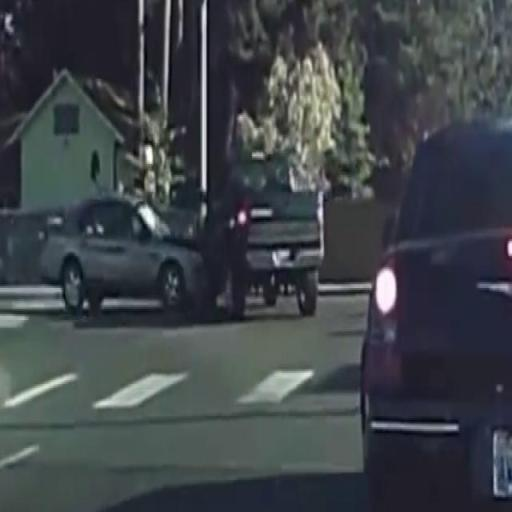小汽车撞小汽车: (45, 152, 326, 315)
